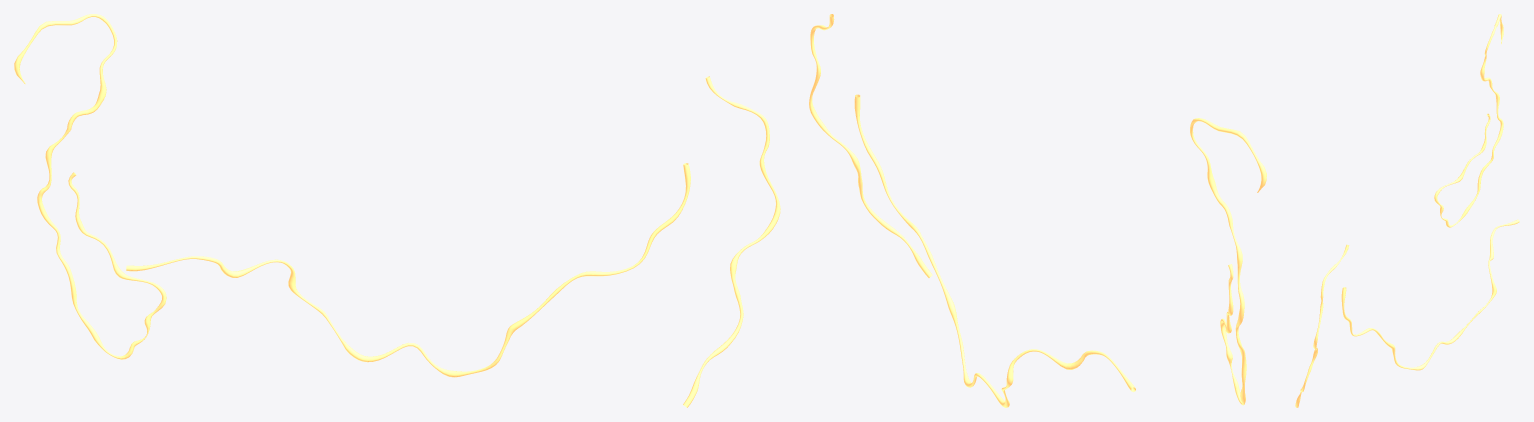
File: microfilament2.fbx
The picture shows the model from 3 angles, left to right: view 1: azimuth 30°, elevation 25°; view 2: azimuth 150°, elevation 25°; view 3: azimuth 270°, elevation 25°; orthographic projection. The views are drawn at different scales.
Visible parts, largest first — view 1: Microfilament_02; view 2: Microfilament_02; view 3: Microfilament_02.
Boxes of the visible parts, x1,y1,x2,y2 form: Microfilament_02: (14, 14, 780, 407); Microfilament_02: (809, 14, 1266, 407); Microfilament_02: (1295, 14, 1519, 407).
Size of the model in its own units: 2911 by 1768 by 1439.
